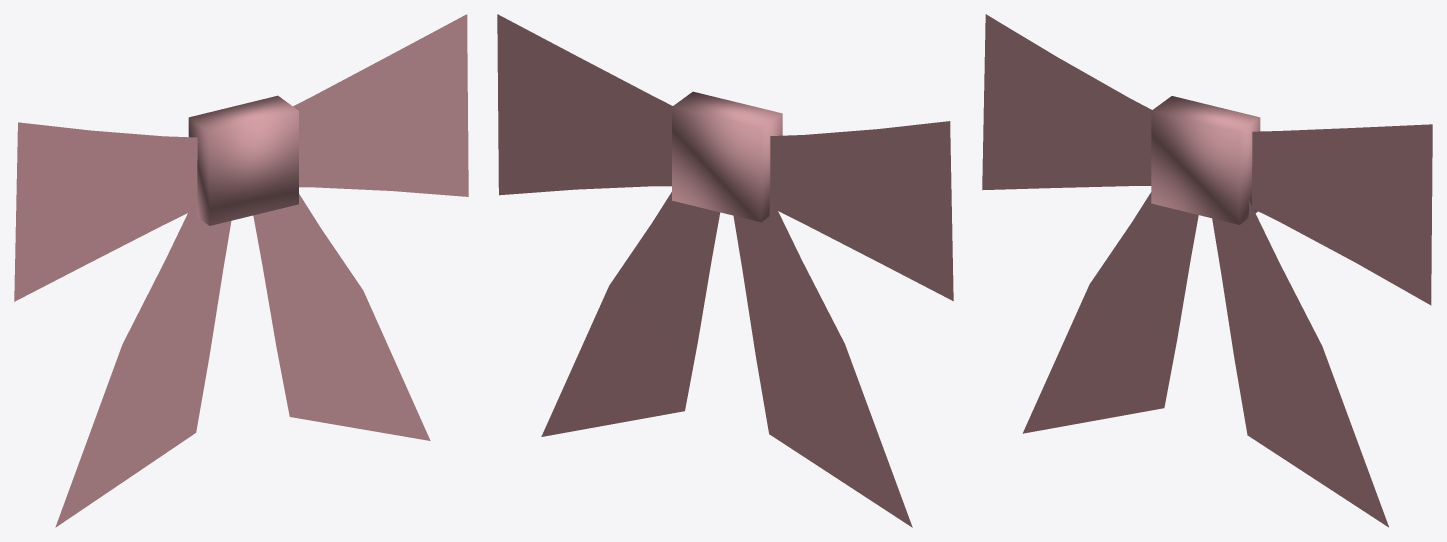
File: анимация.glb
The picture shows the model from 3 angles, left to right: view 1: azimuth 30°, elevation 25°; view 2: azimuth 150°, elevation 25°; view 3: azimuth 330°, elevation 25°; orthographic projection.
Visible parts, largest first — view 1: Plane.002; view 2: Plane.002; view 3: Plane.002.
Boxes of the visible parts, bbox=[...] form: Plane.002: bbox=[14, 14, 468, 527]; Plane.002: bbox=[497, 14, 953, 527]; Plane.002: bbox=[982, 14, 1432, 527].
Size of the model in its own units: 10.17 by 8.93 by 0.8109.
